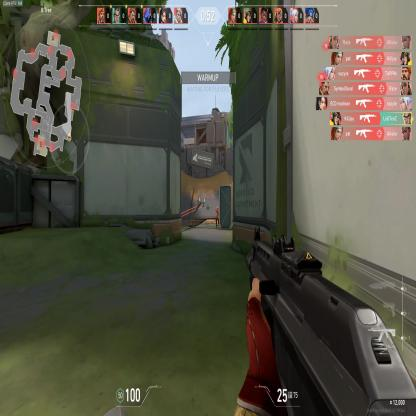enemy: (215, 206, 219, 228)
